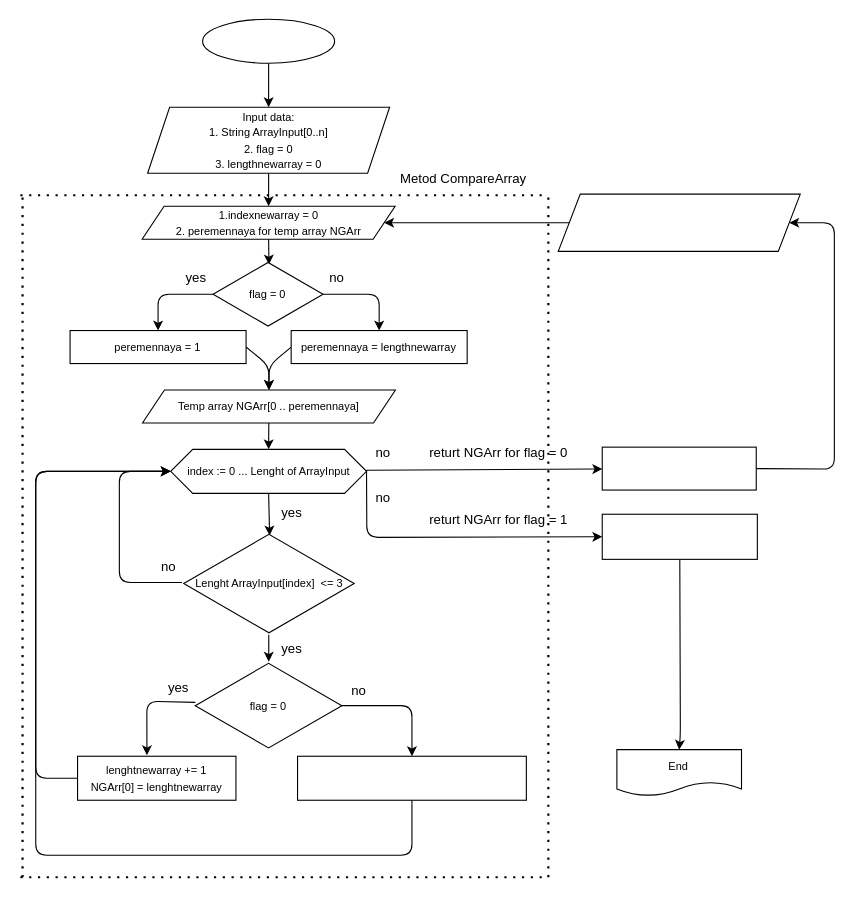
This 862x899 diagram has some shape labels left out. Each missing label, with the box of its shape:
ArrayOut = NGArr: (601, 513, 757, 559)
Input new data: 1. String ArrayOut[0..lengthnewarray] 2. flag =1: (557, 193, 800, 251)
l engthnewarray = NGArr[0]: (601, 446, 756, 490)
NGArr[indexnewarray] = ArrayInput[index] indexnewarray += 1: (296, 755, 526, 800)
Start: (202, 18, 335, 63)
